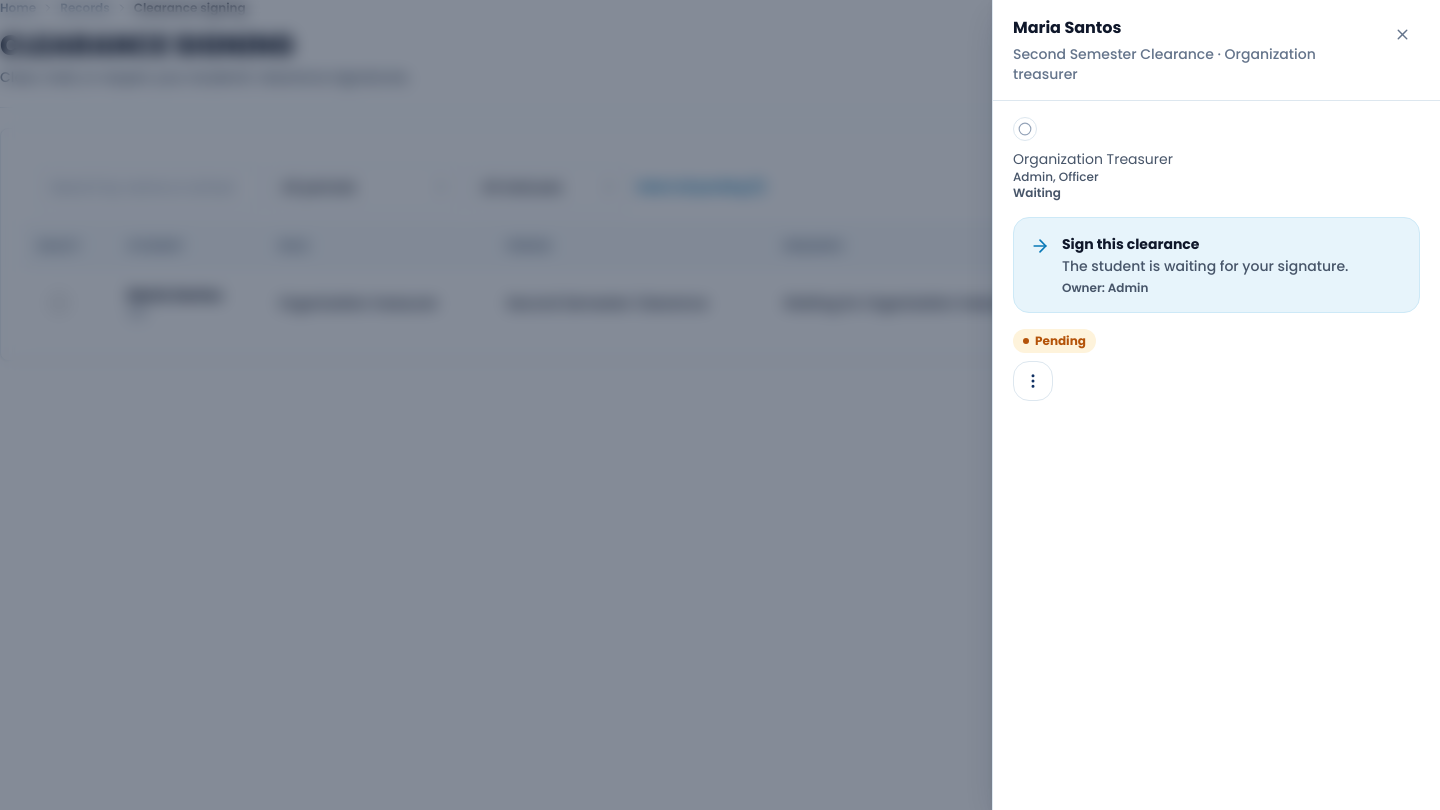
Test case: SignatoryClearancesPage › opens the signature from ?record= with a stepper and a sign callout for the Admin
Expected: the list named "Clearance signature" is shown, [1012, 117, 1173, 201]
Expected: the text "Sign this clearance" is shown, [1062, 234, 1199, 254]
Click the button named "Actions for Organization treasurer" at (1033, 381), box [1013, 361, 1053, 401]
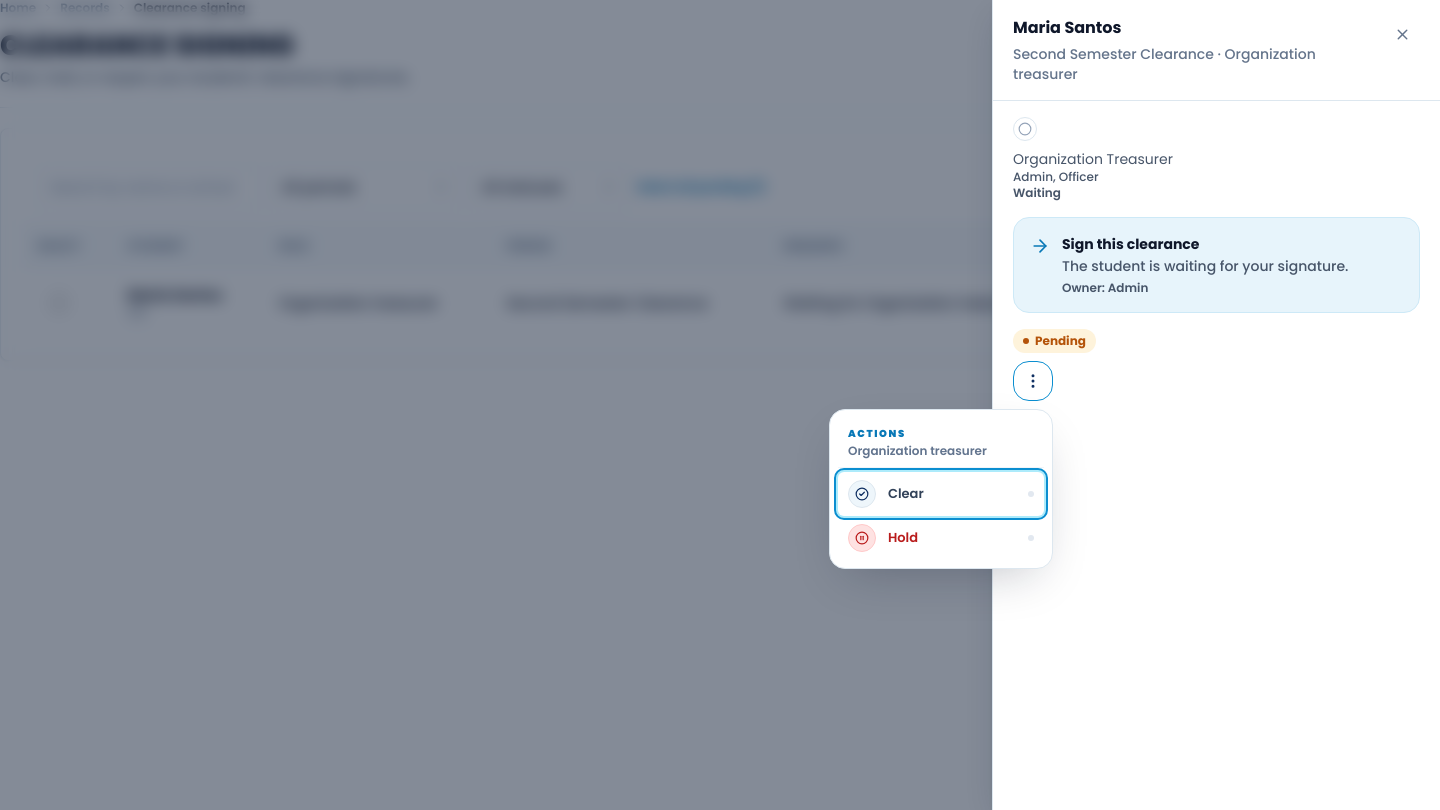
Result: the menu item "Hold" is shown at [838, 516, 1044, 560]
